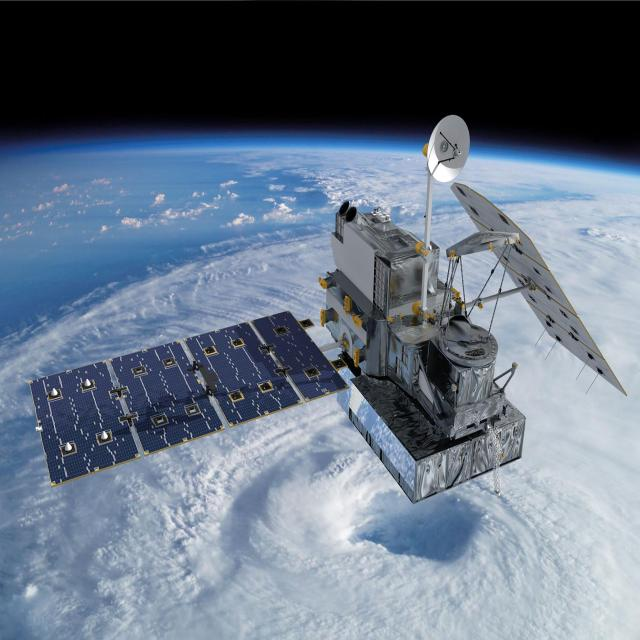medium_debris: (30, 117, 624, 502)
